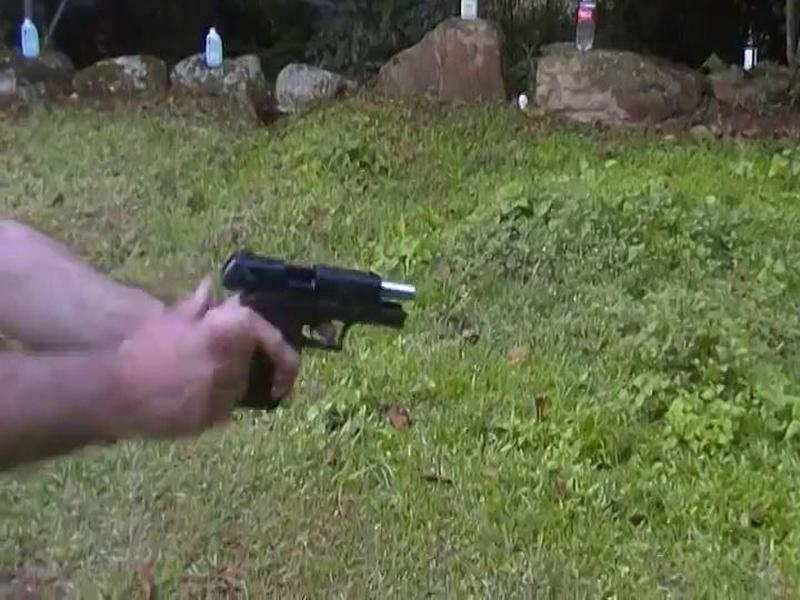Pistola: (203, 231, 428, 415)
